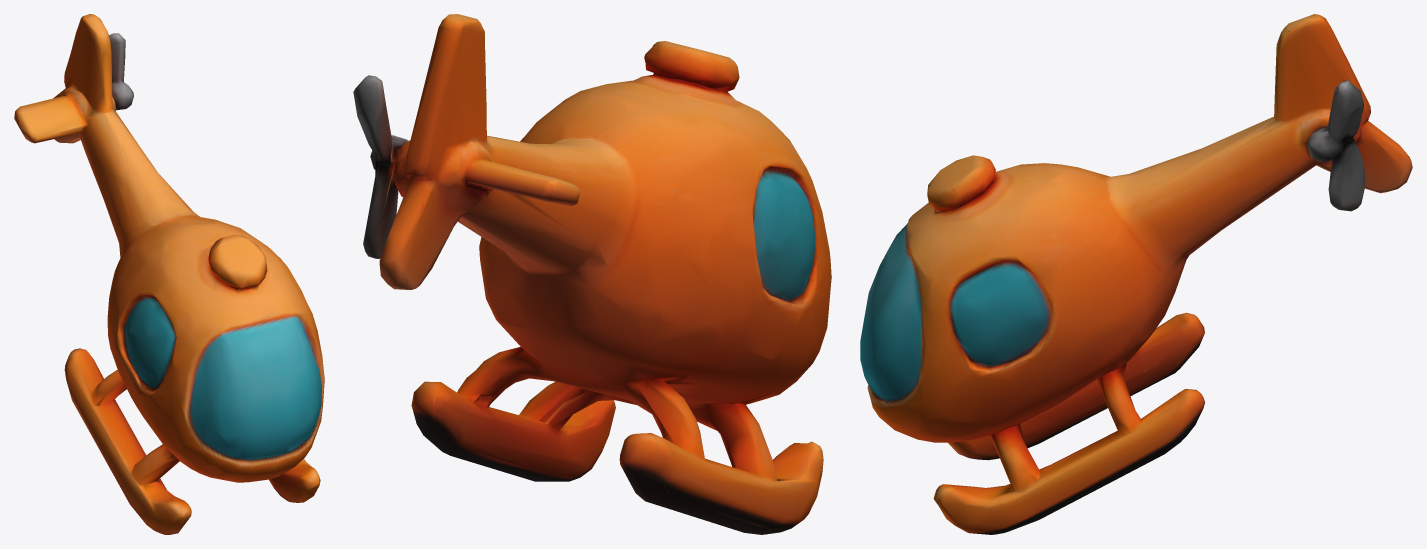
File: chopper-tilt.glb
3 views of the same model, side by side, from view 1: azimuth 30°, elevation 25°; view 2: azimuth 150°, elevation 25°; view 3: azimuth 270°, elevation 25° (orthographic). The views are drawn at different scales.
Parts seen in each view (by area): view 1: geometry_0; view 2: geometry_0; view 3: geometry_0.
Boxes of the visible parts, x1,y1,x2,y2 form: geometry_0: [14, 14, 324, 534]; geometry_0: [353, 14, 831, 534]; geometry_0: [860, 14, 1412, 534].
Size of the model in its own units: 0.3814 by 0.8746 by 0.9138.
Materials: 1 (1 with a texture image).
